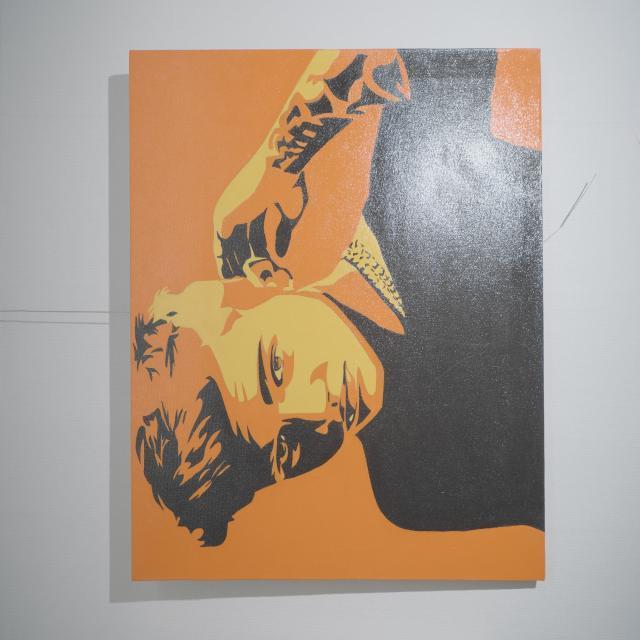painting: (130, 48, 544, 580)
